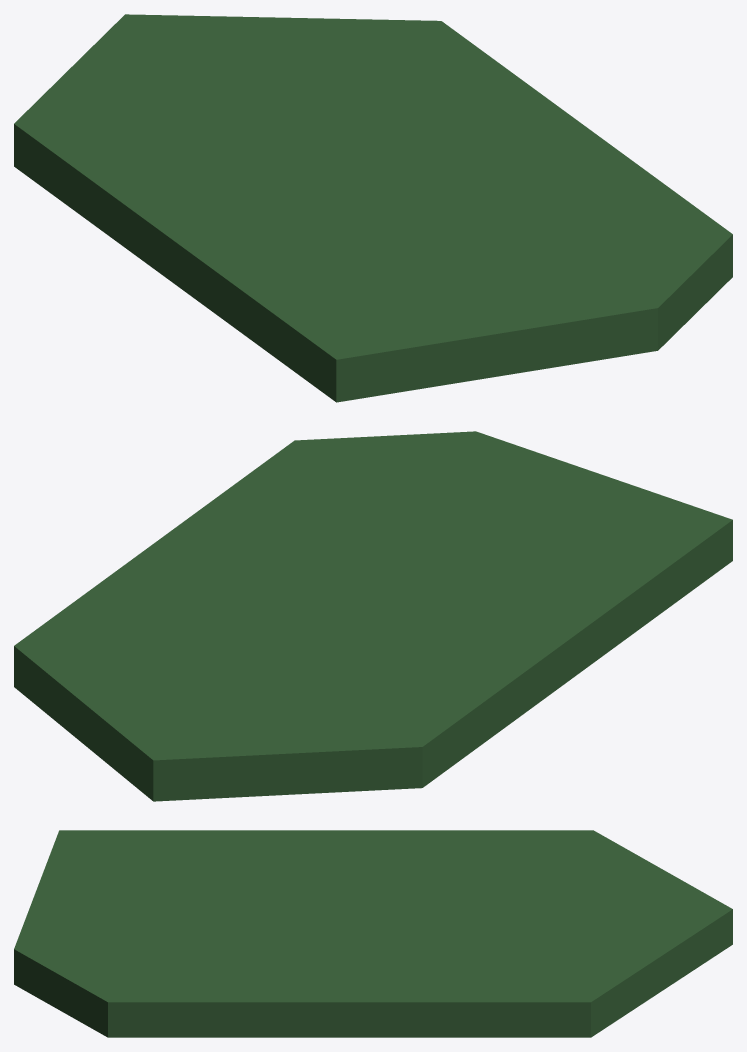
The model's file is x_proval_00_21_1_rmstrd.fbx.
The picture shows the model from 3 angles, top to bottom: view 1: azimuth 30°, elevation 25°; view 2: azimuth 150°, elevation 25°; view 3: azimuth 270°, elevation 25°; orthographic projection. The views are drawn at different scales.
Parts seen in each view (by area): view 1: x_proval_00_21_1_rmstrd1; view 2: x_proval_00_21_1_rmstrd1; view 3: x_proval_00_21_1_rmstrd1.
Part boxes in pixels (bbox=[...]): x_proval_00_21_1_rmstrd1: bbox=[14, 14, 732, 402]; x_proval_00_21_1_rmstrd1: bbox=[14, 431, 732, 801]; x_proval_00_21_1_rmstrd1: bbox=[14, 830, 732, 1037].
Size of the model in its own units: 2.09 by 0.2 by 3.68.
